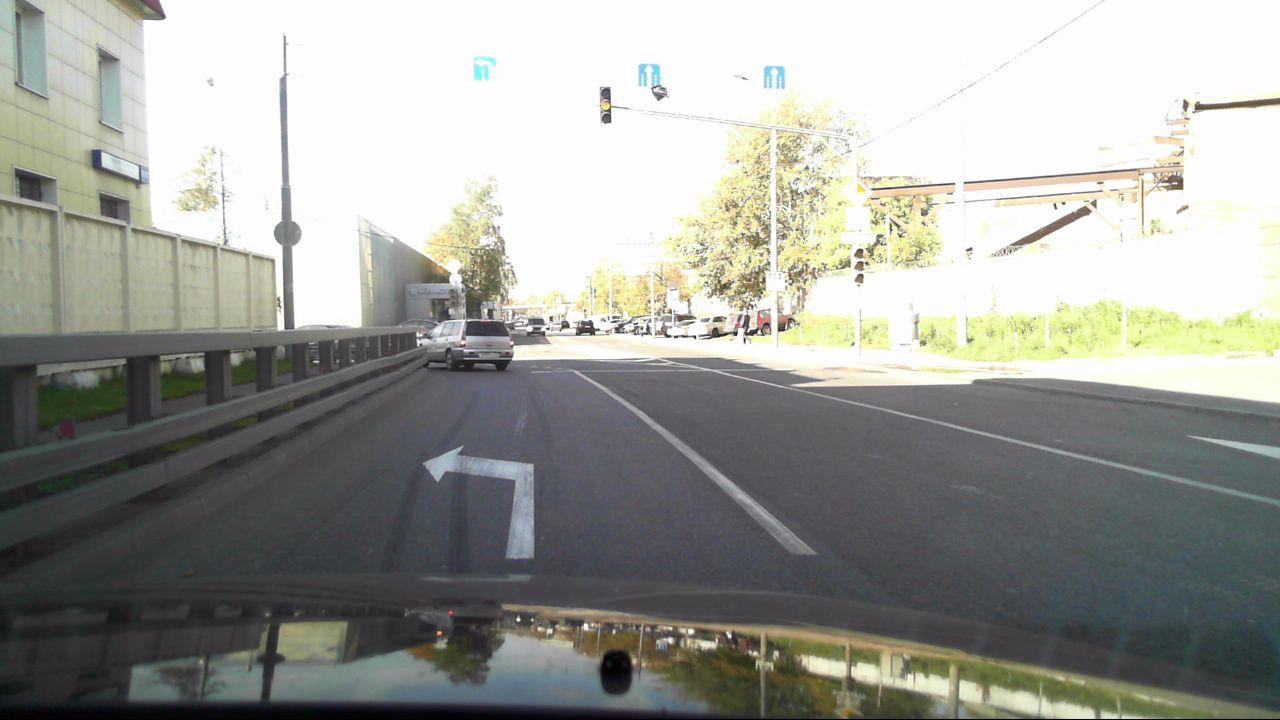2_1: (840, 176, 872, 206)
5_15_2: (471, 54, 499, 84), (638, 61, 663, 91), (762, 65, 786, 90)
5_19_1: (846, 207, 872, 229)
6_16: (841, 231, 877, 245)
